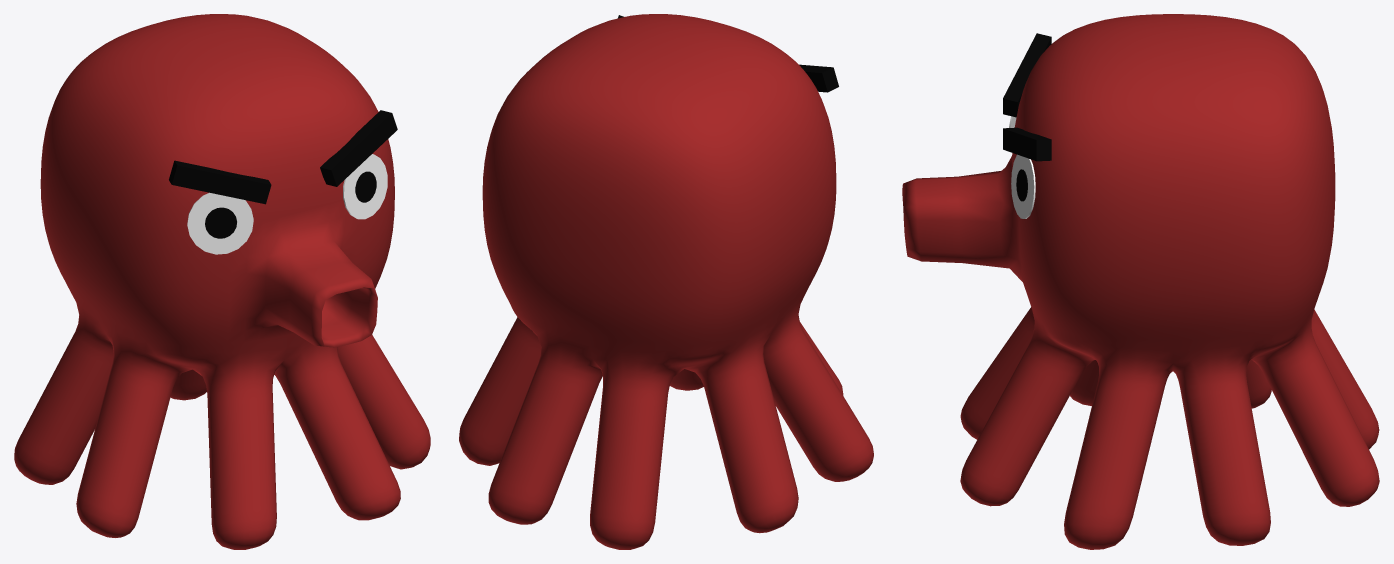
File: Octopus1.fbx
3 views of the same model, side by side, from view 1: azimuth 30°, elevation 25°; view 2: azimuth 150°, elevation 25°; view 3: azimuth 270°, elevation 25° (orthographic). The views are drawn at different scales.
Visible parts, largest first — view 1: Object004, obecject 5, Cylinder001, Cylinder002, Cylinder003, Cylinder004; view 2: Object004, obecject 5; view 3: Object004, obecject 5, Cylinder002.
Boxes of the visible parts, x1,y1,x2,y2 form: Object004: (14,14,430,549); obecject 5: (169,110,397,204); Cylinder001: (187,192,253,254); Cylinder002: (343,154,387,219); Cylinder003: (205,207,236,238); Cylinder004: (355,171,376,202); Object004: (459,14,873,549); obecject 5: (617,15,838,92); Object004: (902,14,1379,549); obecject 5: (1003,33,1051,161); Cylinder002: (1011,154,1035,218).
Bounding box in the file's own units: 75.37 × 90.11 × 88.88.
